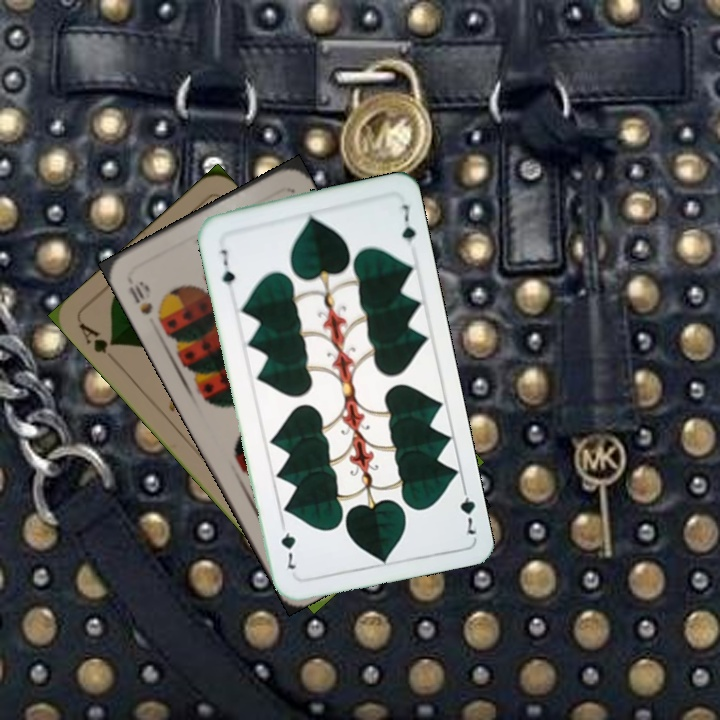G7: (456, 480, 479, 539), (217, 245, 238, 288)
GA: (74, 319, 120, 357)
S10: (124, 277, 156, 318)
